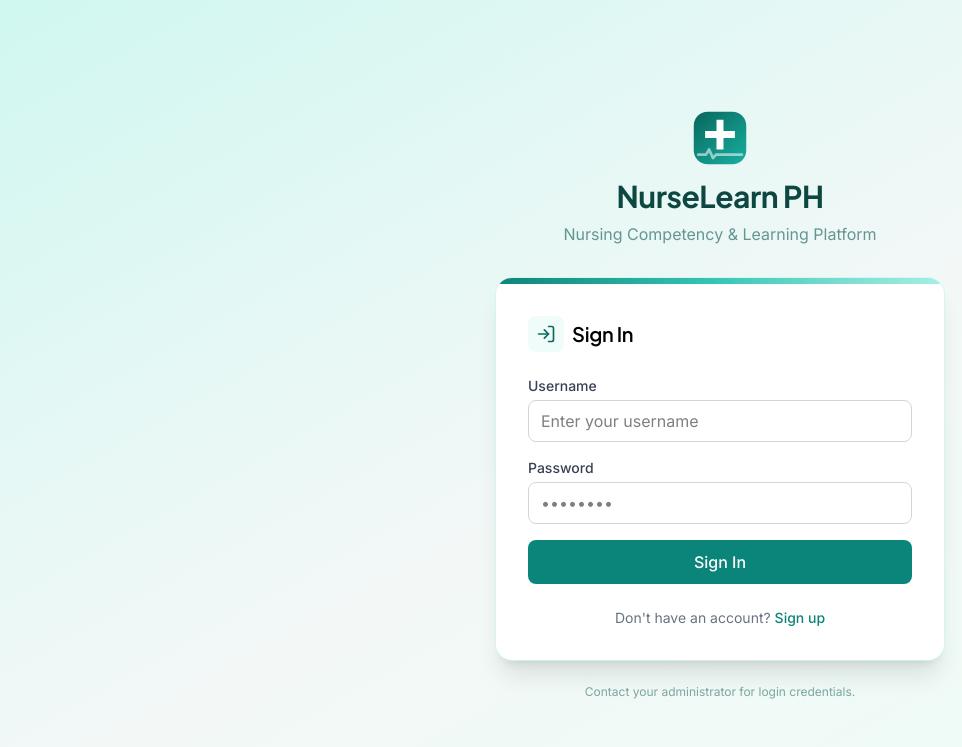
Test: LoginPage › shows inline error message on login failure
Type "testuser" into the field with placeholder "Enter your username" at (720, 421), box [528, 400, 912, 442]
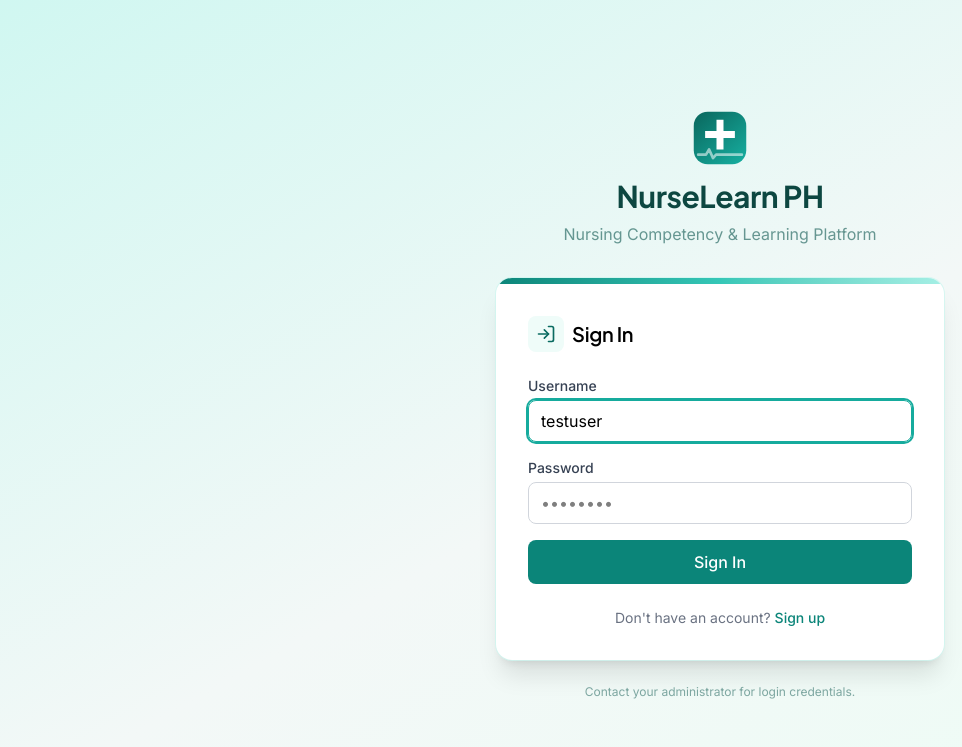
Type "wrong" into the password field with placeholder "••••••••" at (720, 503), box [528, 482, 912, 524]
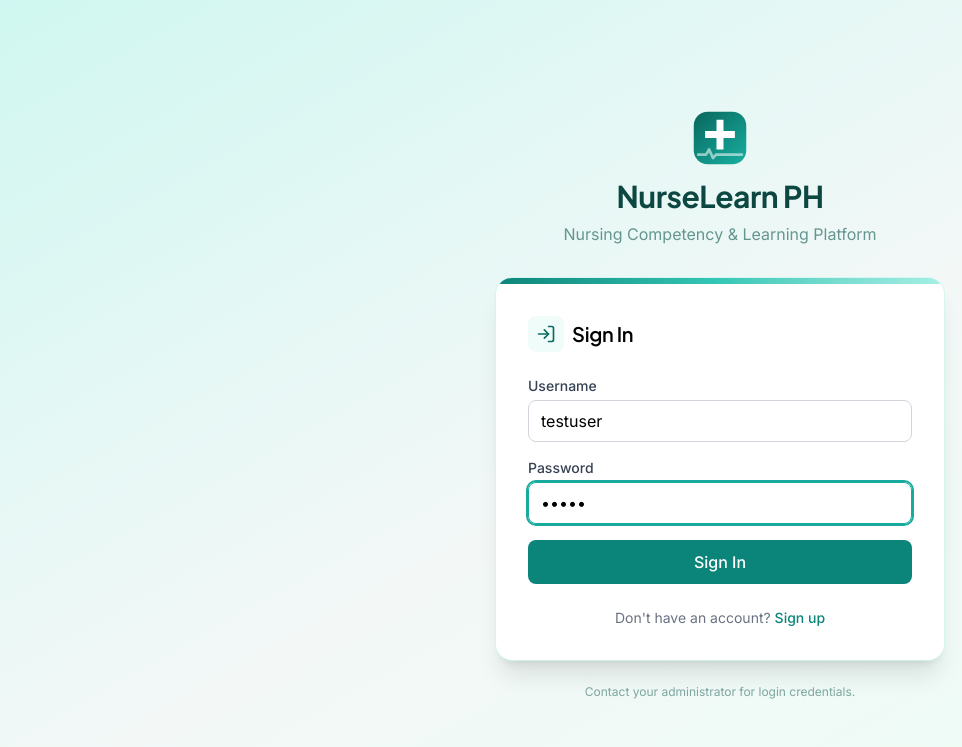
Submit the form from the button "Sign In", box [528, 540, 912, 584]
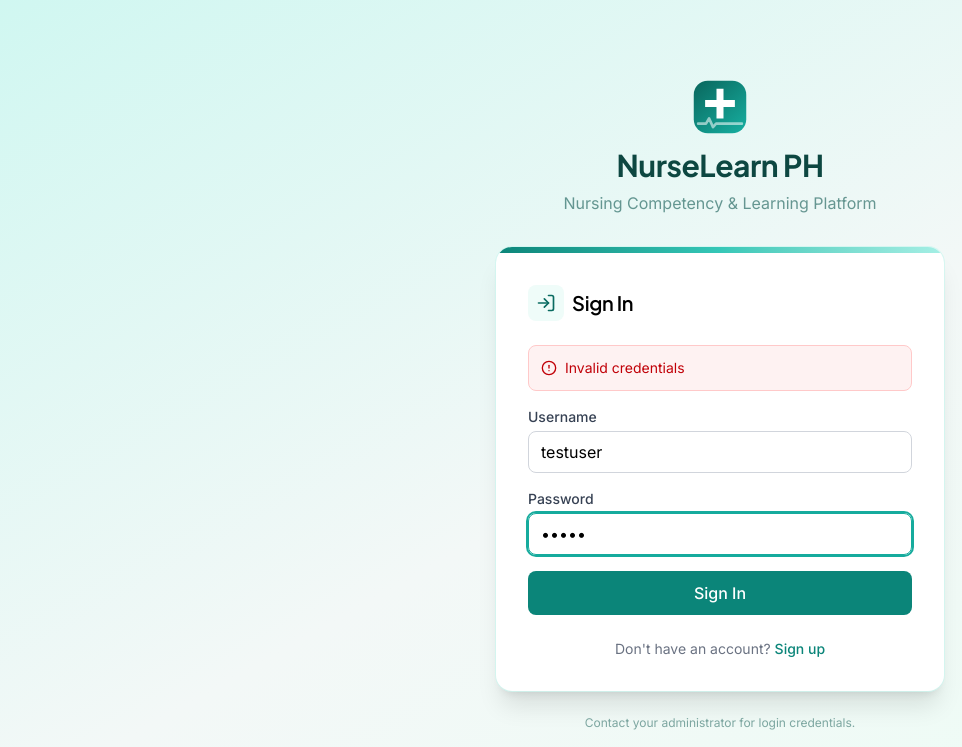
Expected: the text "Invalid credentials" is shown, [565, 358, 685, 378]
